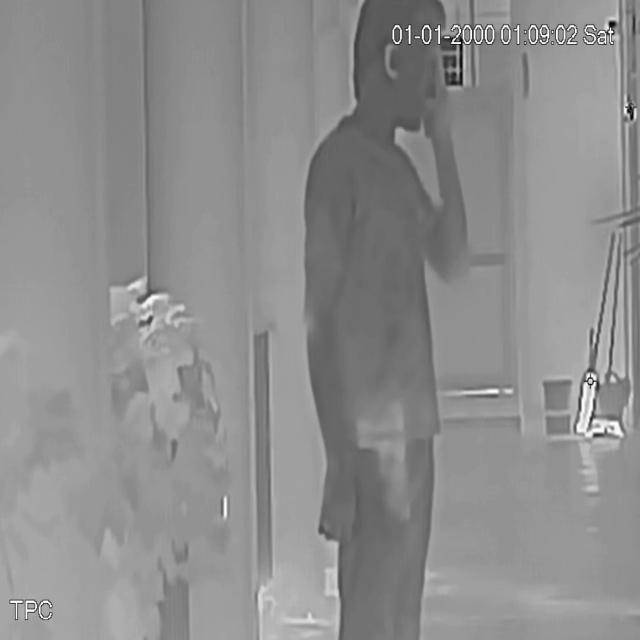Weapon: (351, 397, 428, 538)
